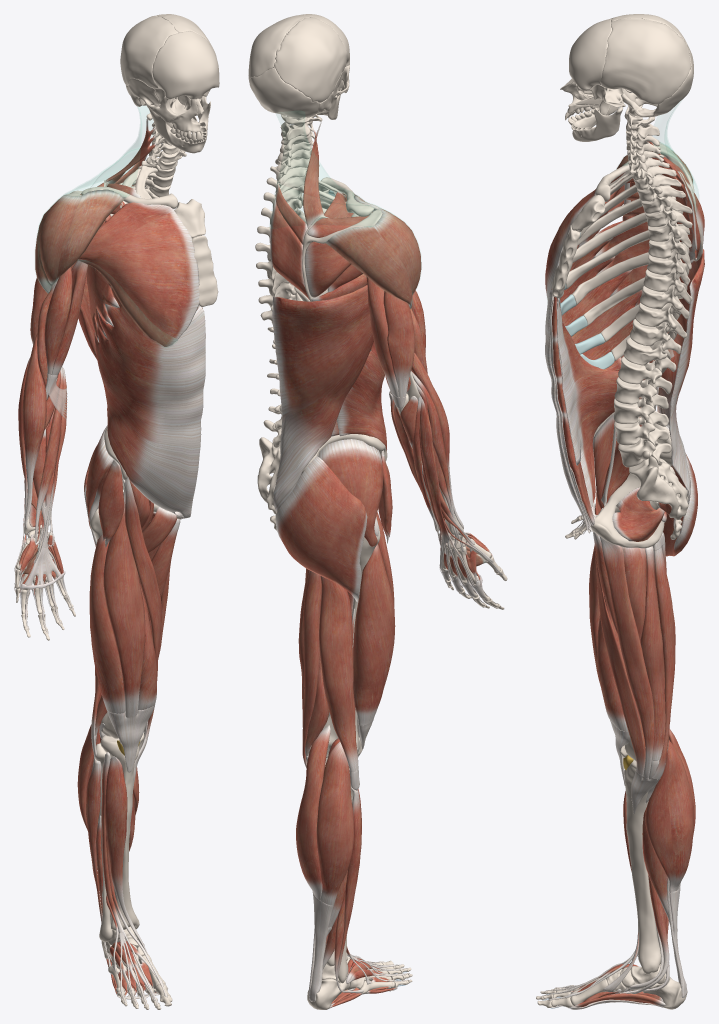
Rendered from full-body.glb.
The picture shows the model from 3 angles, left to right: view 1: azimuth 30°, elevation 25°; view 2: azimuth 150°, elevation 25°; view 3: azimuth 270°, elevation 25°; orthographic projection. The views are drawn at different scales.
Visible parts, largest first — view 1: External abdominal oblique muscle.r, Pectoralis major.r, Rectus femoris.r, Deltoid muscle.r, Frontal bone, Vastus lateralis muscle.r, Tibialis anterior muscle.r, Sartorius muscle.r, Brachioradialis muscle.r, Parietal bone right, Tibia.r, Long head of biceps brachii.r (+34 smaller); view 2: Latissimus dorsi.r, Gluteus maximus muscle.r, Vastus lateralis muscle.r, Deltoid muscle.r, Long head of biceps femoris.r, Lateral head of gastrocnemius.r, Parietal bone right, Gluteus medius muscle.r, Medial head of gastrocnemius.r, External abdominal oblique muscle.r, Semitendinosus muscle.r, Lateral head of triceps brachii.r (+21 smaller); view 3: Parietal bone left, Transverse abdominal muscle.r, Medial head of gastrocnemius.r, External abdominal oblique muscle.r, Gracilis muscle.r, Tibia.r, Latissimus dorsi.r, Semimembranosus muscle.r, Sartorius muscle.r, Semitendinosus muscle.r, Sacrum, Frontal bone (+53 smaller).
Part boxes in pixels (x1,y1,x2,y2): External abdominal oblique muscle.r: (94, 286, 205, 519); Pectoralis major.r: (78, 202, 199, 346); Rectus femoris.r: (103, 488, 145, 717); Deltoid muscle.r: (35, 189, 125, 293); Frontal bone: (152, 31, 219, 99); Vastus lateralis muscle.r: (89, 534, 125, 713); Tibialis anterior muscle.r: (105, 756, 148, 954); Sartorius muscle.r: (122, 477, 161, 738); Brachioradialis muscle.r: (22, 334, 46, 528); Parietal bone right: (120, 15, 178, 88); Tibia.r: (100, 733, 144, 930); Long head of biceps brachii.r: (44, 267, 72, 374); Latissimus dorsi.r: (272, 285, 373, 513); Gluteus maximus muscle.r: (275, 456, 367, 601); Vastus lateralis muscle.r: (353, 544, 395, 725); Deltoid muscle.r: (325, 194, 421, 308); Long head of biceps femoris.r: (319, 576, 358, 772); Lateral head of gastrocnemius.r: (316, 741, 353, 905); Parietal bone right: (274, 17, 347, 102); Gluteus medius muscle.r: (318, 439, 382, 546); Medial head of gastrocnemius.r: (296, 725, 330, 900); External abdominal oblique muscle.r: (336, 342, 386, 450); Semitendinosus muscle.r: (302, 570, 321, 768); Lateral head of triceps brachii.r: (383, 291, 414, 397); Parietal bone left: (600, 18, 691, 104); Transverse abdominal muscle.r: (557, 298, 658, 527); Medial head of gastrocnemius.r: (645, 740, 693, 892); External abdominal oblique muscle.r: (545, 238, 653, 533); Gracilis muscle.r: (599, 536, 654, 778); Tibia.r: (624, 760, 660, 974); Latissimus dorsi.r: (654, 249, 704, 510); Semimembranosus muscle.r: (640, 546, 670, 760); Sartorius muscle.r: (594, 496, 645, 775); Semitendinosus muscle.r: (652, 546, 675, 778); Sacrum: (629, 441, 688, 519); Frontal bone: (569, 18, 612, 90).
Bounding box in the file's own units: 0.4097 × 1.7 × 0.2571.
Materials: 166 (23 with a texture image).
